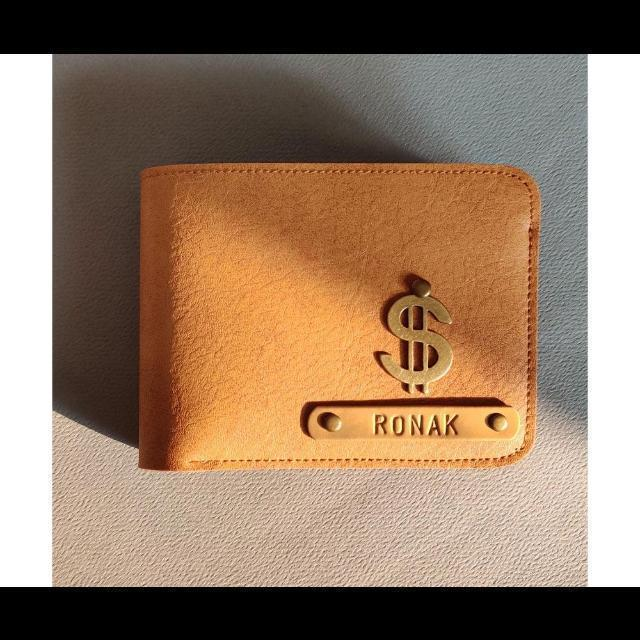wallet: (140, 164, 536, 468)
